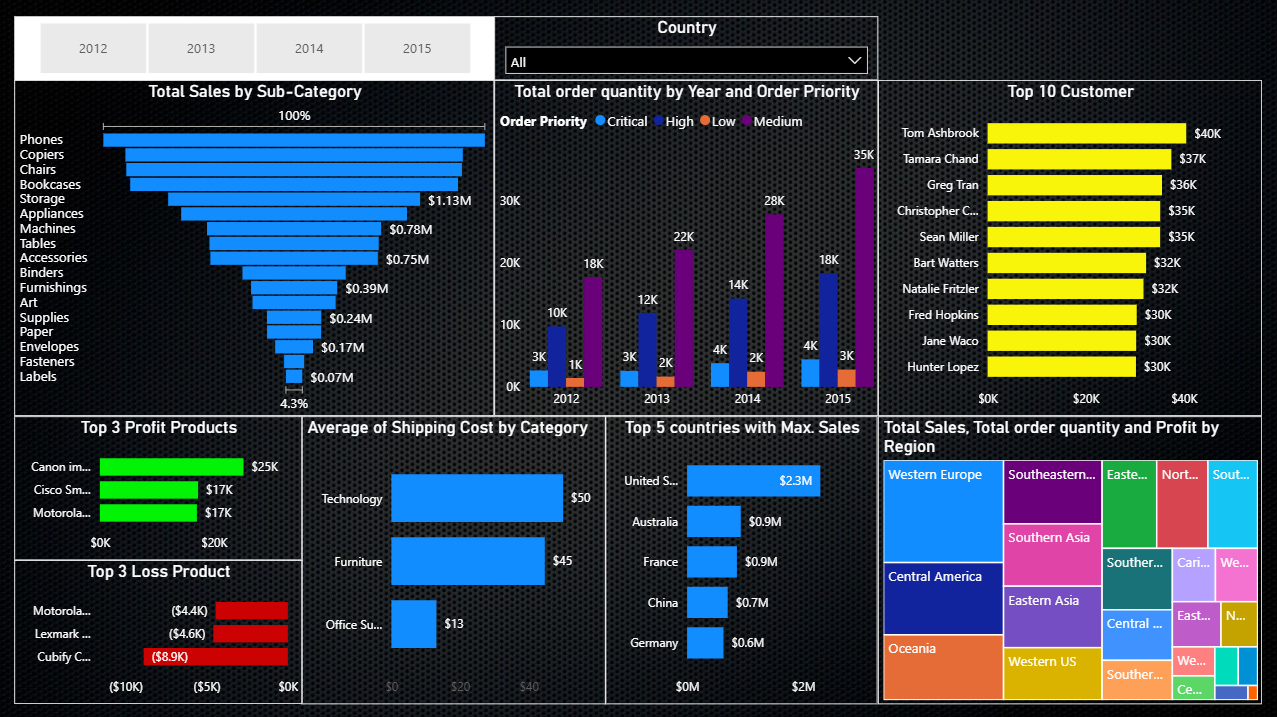

Layout of this report page (visuals, bound fields, positions):
{"tool":"powerbi","page":{"name":"Page 2","canvas":[1280,720],"ordinal":1},"visuals":[{"type":"funnel","fields":{"Y":["Orders.Total Sales"],"Category":["Orders.Sub-Category"]},"box":[16,80,480,336],"z":0},{"type":"barChart","title":"Top 10 Customer","fields":{"Y":["Sum(Orders.Sales)"],"Category":["Orders.Customer Name"]},"box":[880,80,384,336],"z":1000},{"type":"barChart","title":"Top 3 Profit Products","fields":{"Y":["Sum(Orders.Profit)"],"Category":["Orders.Product Name"]},"box":[16,416,288,144],"z":2000},{"type":"barChart","title":"Top 3 Loss  Product","fields":{"Y":["Sum(Orders.Profit)"],"Category":["Orders.Product Name"]},"box":[16,560,288,144],"z":3000},{"type":"clusteredColumnChart","fields":{"Category":["Orders.Year"],"Y":["Orders.Total order quantity"],"Series":["Orders.Order Priority"]},"box":[496,80,384,336],"z":4000},{"type":"barChart","fields":{"Category":["Orders.Category"],"Y":["Avg(Orders.Shipping Cost)"]},"box":[304,416,304,288],"z":5000},{"type":"treemap","fields":{"Values":["Orders.Total Sales"],"Group":["Orders.Region Hierarchy.Region","Orders.Region Hierarchy.Country","Orders.Region Hierarchy.State","Orders.Region Hierarchy.City"]},"box":[880,416,384,288],"z":6000},{"type":"barChart","title":"Top 5 countries with Max. Sales","fields":{"Category":["Orders.Country"],"Y":["Orders.Total Sales"]},"box":[608,416,272,288],"z":7000},{"type":"slicer","fields":{"Values":["Orders.Year"]},"box":[16,16,480,64],"z":8000},{"type":"slicer","title":"Country","fields":{"Values":["Orders.Country"]},"box":[496,16,384,64],"z":9000}]}

Visuals, with their boxes in screenshot pixels (x1, y1, x2, y2), scaled from the page's 1280x720 canvas onto the 1277x717 screenshot:
funnel - Orders.Total Sales x Orders.Sub-Category: <bbox>16, 80, 495, 414</bbox>
"Top 10 Customer" barChart: <bbox>878, 80, 1261, 414</bbox>
"Top 3 Profit Products" barChart: <bbox>16, 414, 303, 558</bbox>
"Top 3 Loss  Product" barChart: <bbox>16, 558, 303, 701</bbox>
clusteredColumnChart - Orders.Year x Orders.Total order quantity: <bbox>495, 80, 878, 414</bbox>
barChart - Orders.Category x Avg(Orders.Shipping Cost): <bbox>303, 414, 607, 701</bbox>
treemap - Orders.Total Sales x Orders.Region Hierarchy.Region: <bbox>878, 414, 1261, 701</bbox>
"Top 5 countries with Max. Sales" barChart: <bbox>607, 414, 878, 701</bbox>
slicer - Orders.Year: <bbox>16, 16, 495, 80</bbox>
"Country" slicer: <bbox>495, 16, 878, 80</bbox>
